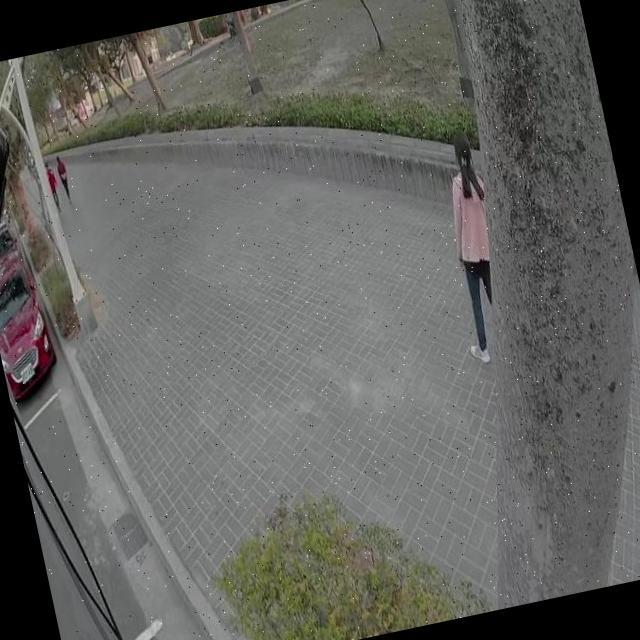person: (426, 130, 518, 366), (56, 152, 74, 204), (44, 158, 62, 208)
